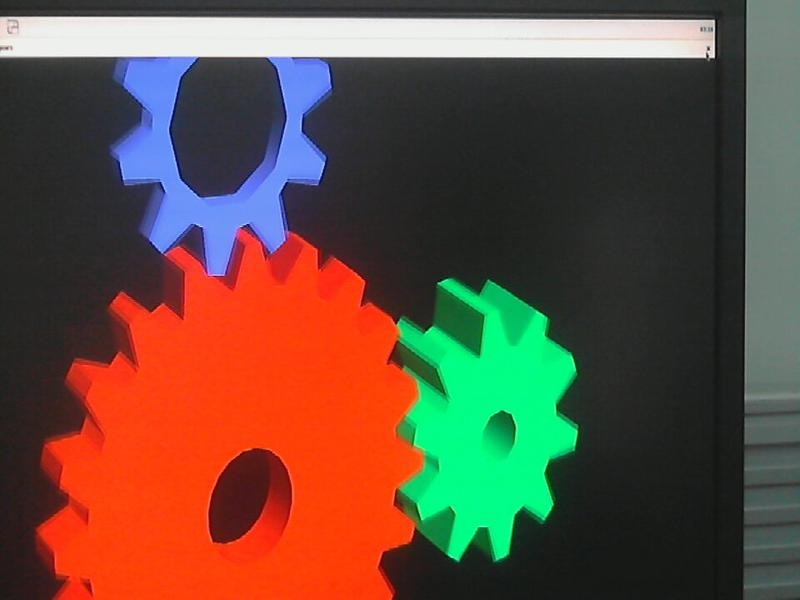glxgears_pass: (18, 55, 584, 599)
